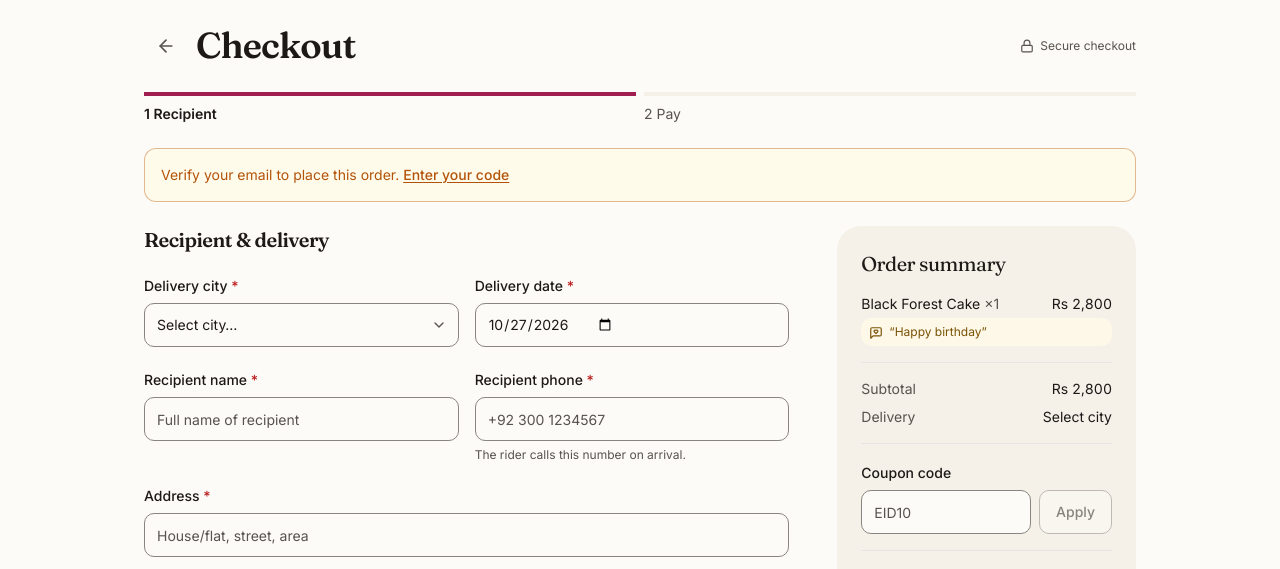
Test: CheckoutPage › explains a rejected coupon and drops it
Select "Lahore" in the dropdown labelled "Delivery city *" at point(301, 325), box [144, 303, 459, 347]
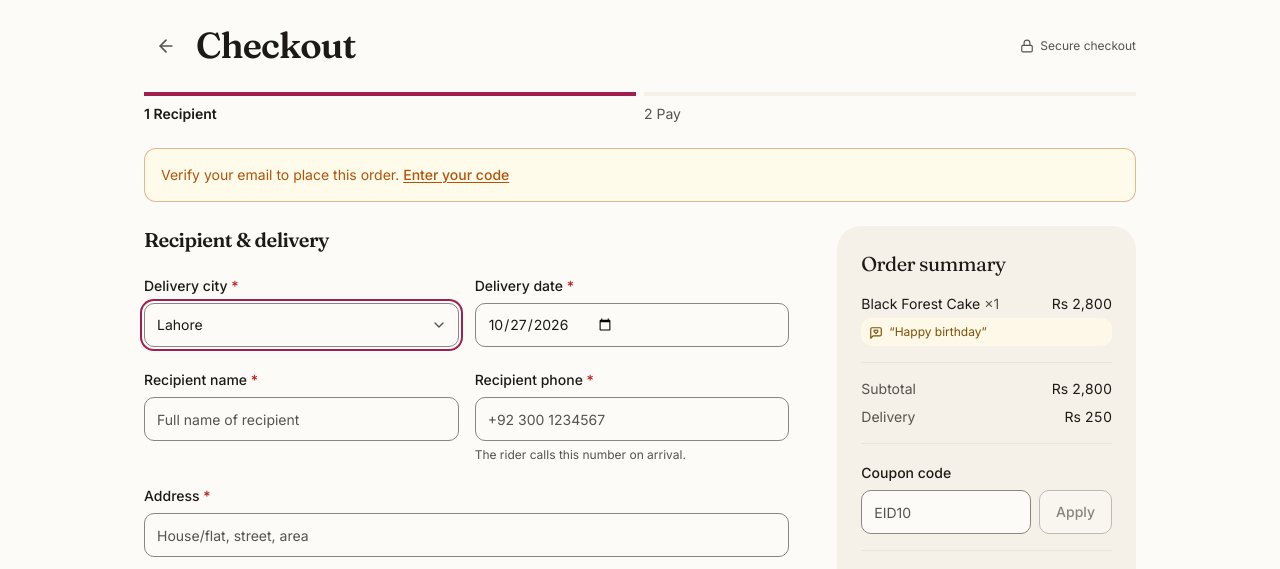
Type "OLD" into the field labelled "Coupon code" at point(946, 512), box [861, 490, 1031, 534]
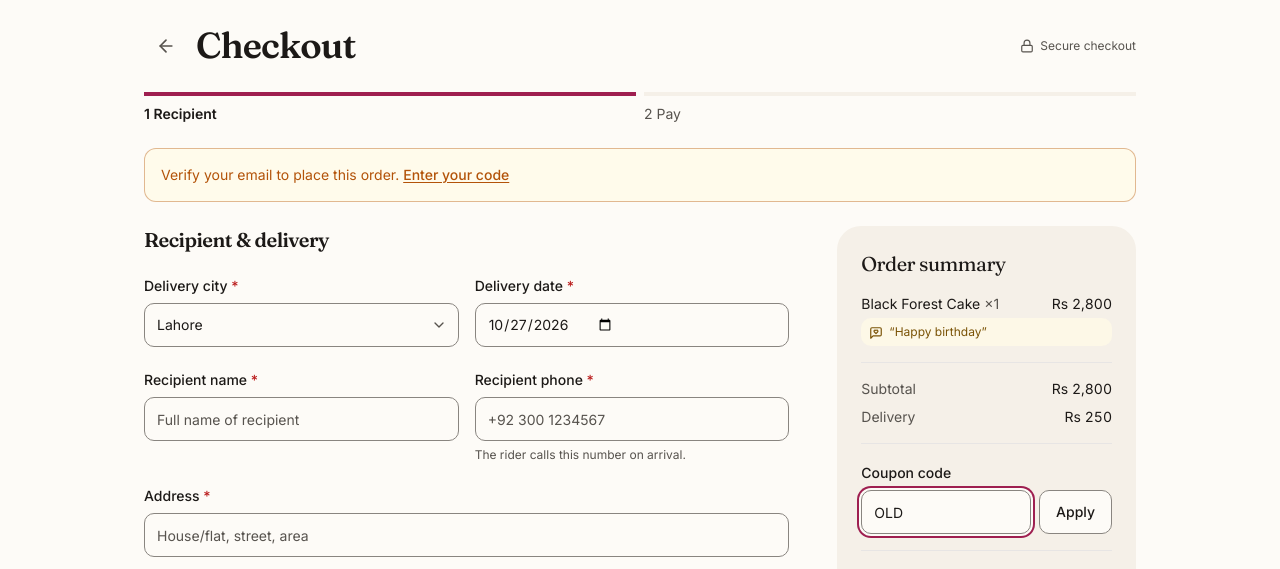
Click the button "Apply" at point(1076, 512), box [1039, 490, 1112, 534]
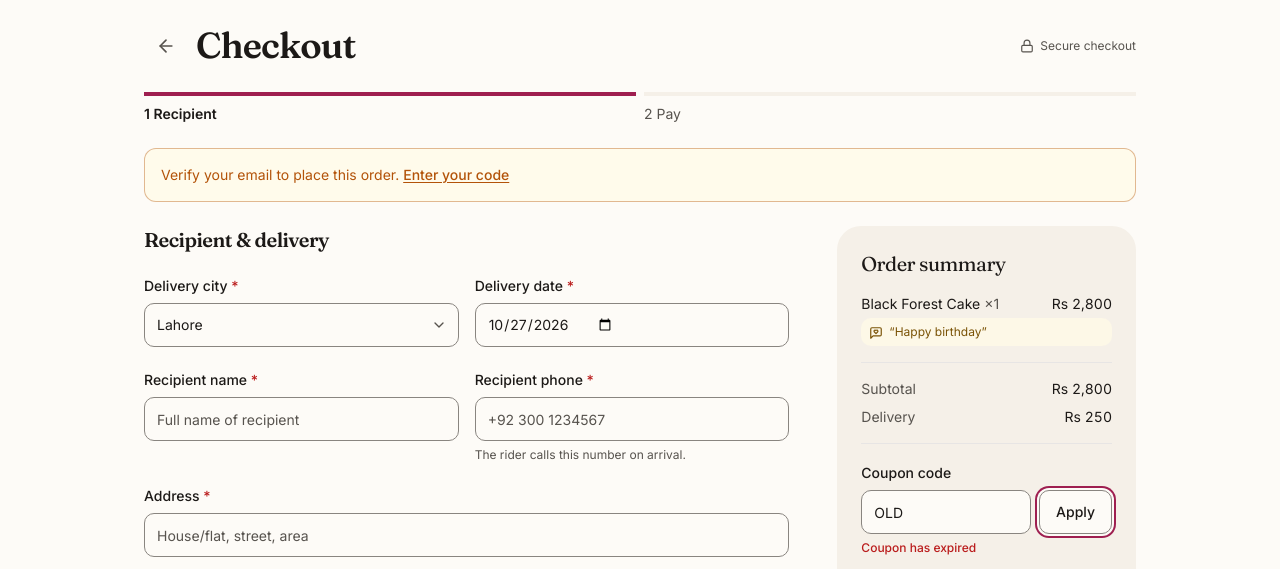
Expected: the field labelled "Coupon code" is shown, [861, 490, 1031, 534]
Now the message "Coupon has expired" is shown, box [861, 540, 976, 555]
